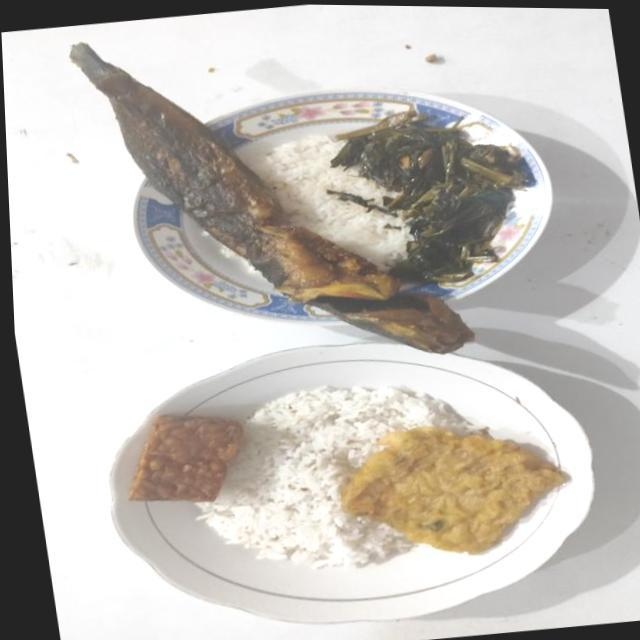nasi_putih: (200, 387, 482, 568), (251, 134, 409, 268)
tempe_goreng: (128, 414, 242, 502)
tumis_kangkung: (330, 107, 535, 283)
